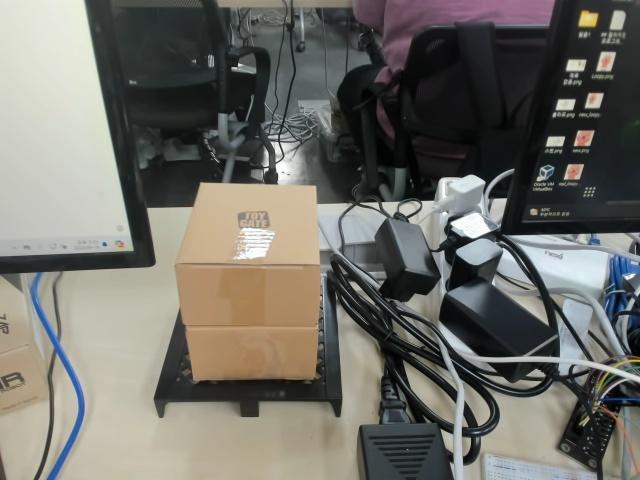box: (155, 181, 347, 417)
